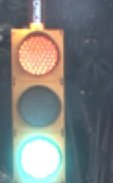Green: (7, 14, 71, 183)
